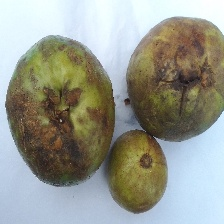guava: (31, 33, 198, 211)
